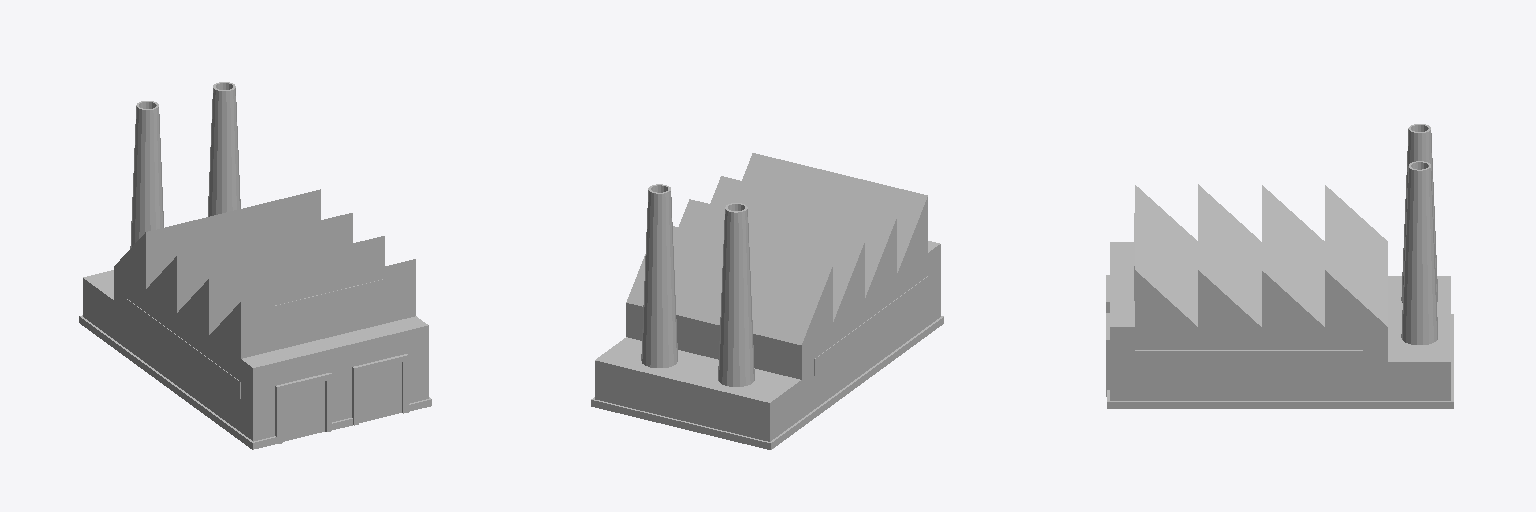
Rendered from factory.obj.
3 renders of one model, left to right at view 1: azimuth 30°, elevation 25°; view 2: azimuth 150°, elevation 25°; view 3: azimuth 270°, elevation 25°, orthographic.
Visible parts, largest first — view 1: Building_Factory; view 2: Building_Factory; view 3: Building_Factory.
Boxes of the visible parts, x1,y1,x2,y2 form: Building_Factory: [79, 82, 431, 449]; Building_Factory: [591, 153, 943, 449]; Building_Factory: [1106, 124, 1453, 408].
Bounding box in the file's own units: 646 × 747 × 1083.